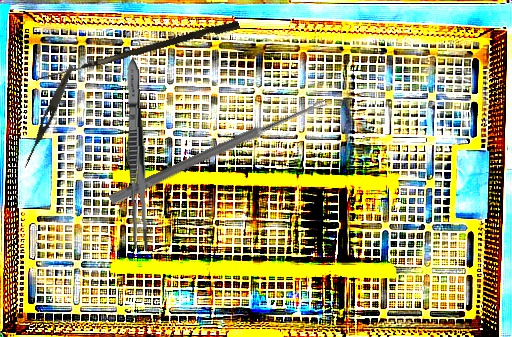Dressing Forceps: (122, 57, 152, 254), (21, 64, 76, 170)
Hook Surgical: (37, 16, 241, 90)
Surgical Spoon: (108, 95, 328, 207)
